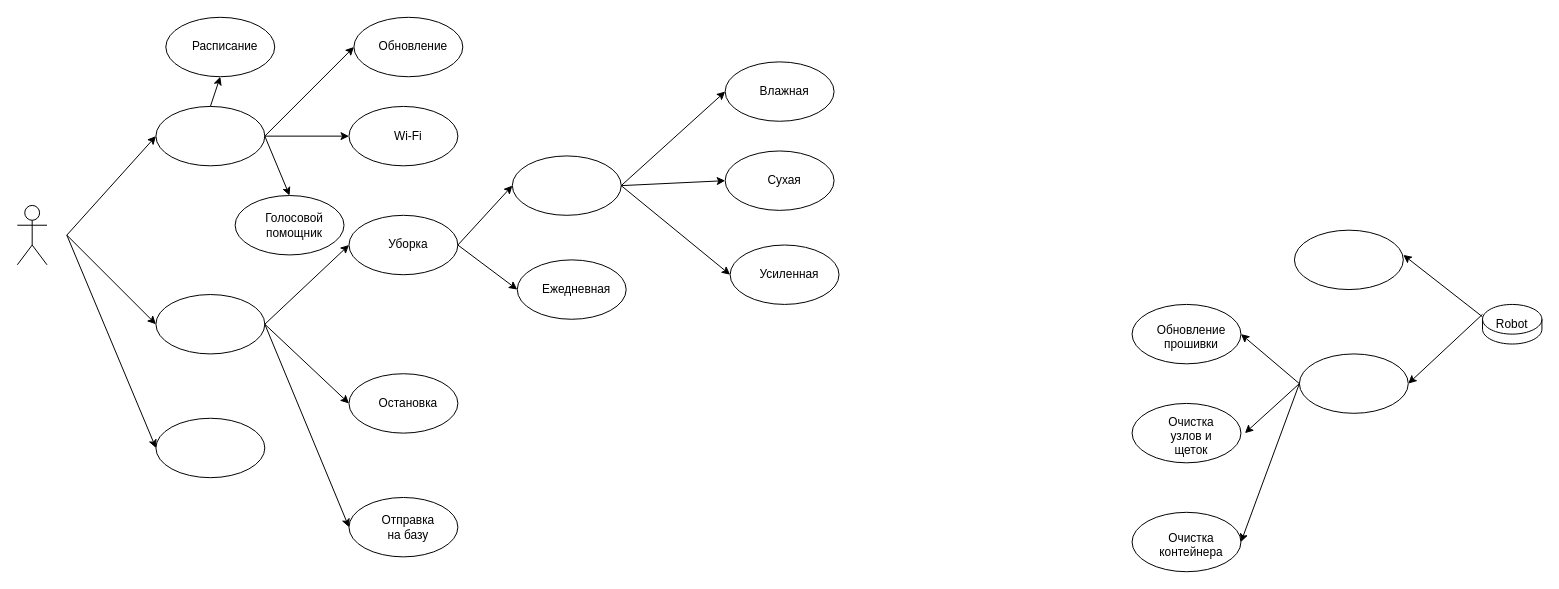
The diagram is 1559 pixels wide and 589 high, and some of its shapes have lost their labels. The centre of each missing label's shape, as x and y in pixels:
"User" goes at (x=31, y=234).
"Генеральная" goes at (x=566, y=185).
"Запросить обслуживание" goes at (x=1353, y=383).
"На базу" goes at (x=1348, y=259).
"Настройки" goes at (x=210, y=135).
"Состояние" goes at (x=210, y=447).
"Управление" goes at (x=210, y=324).
